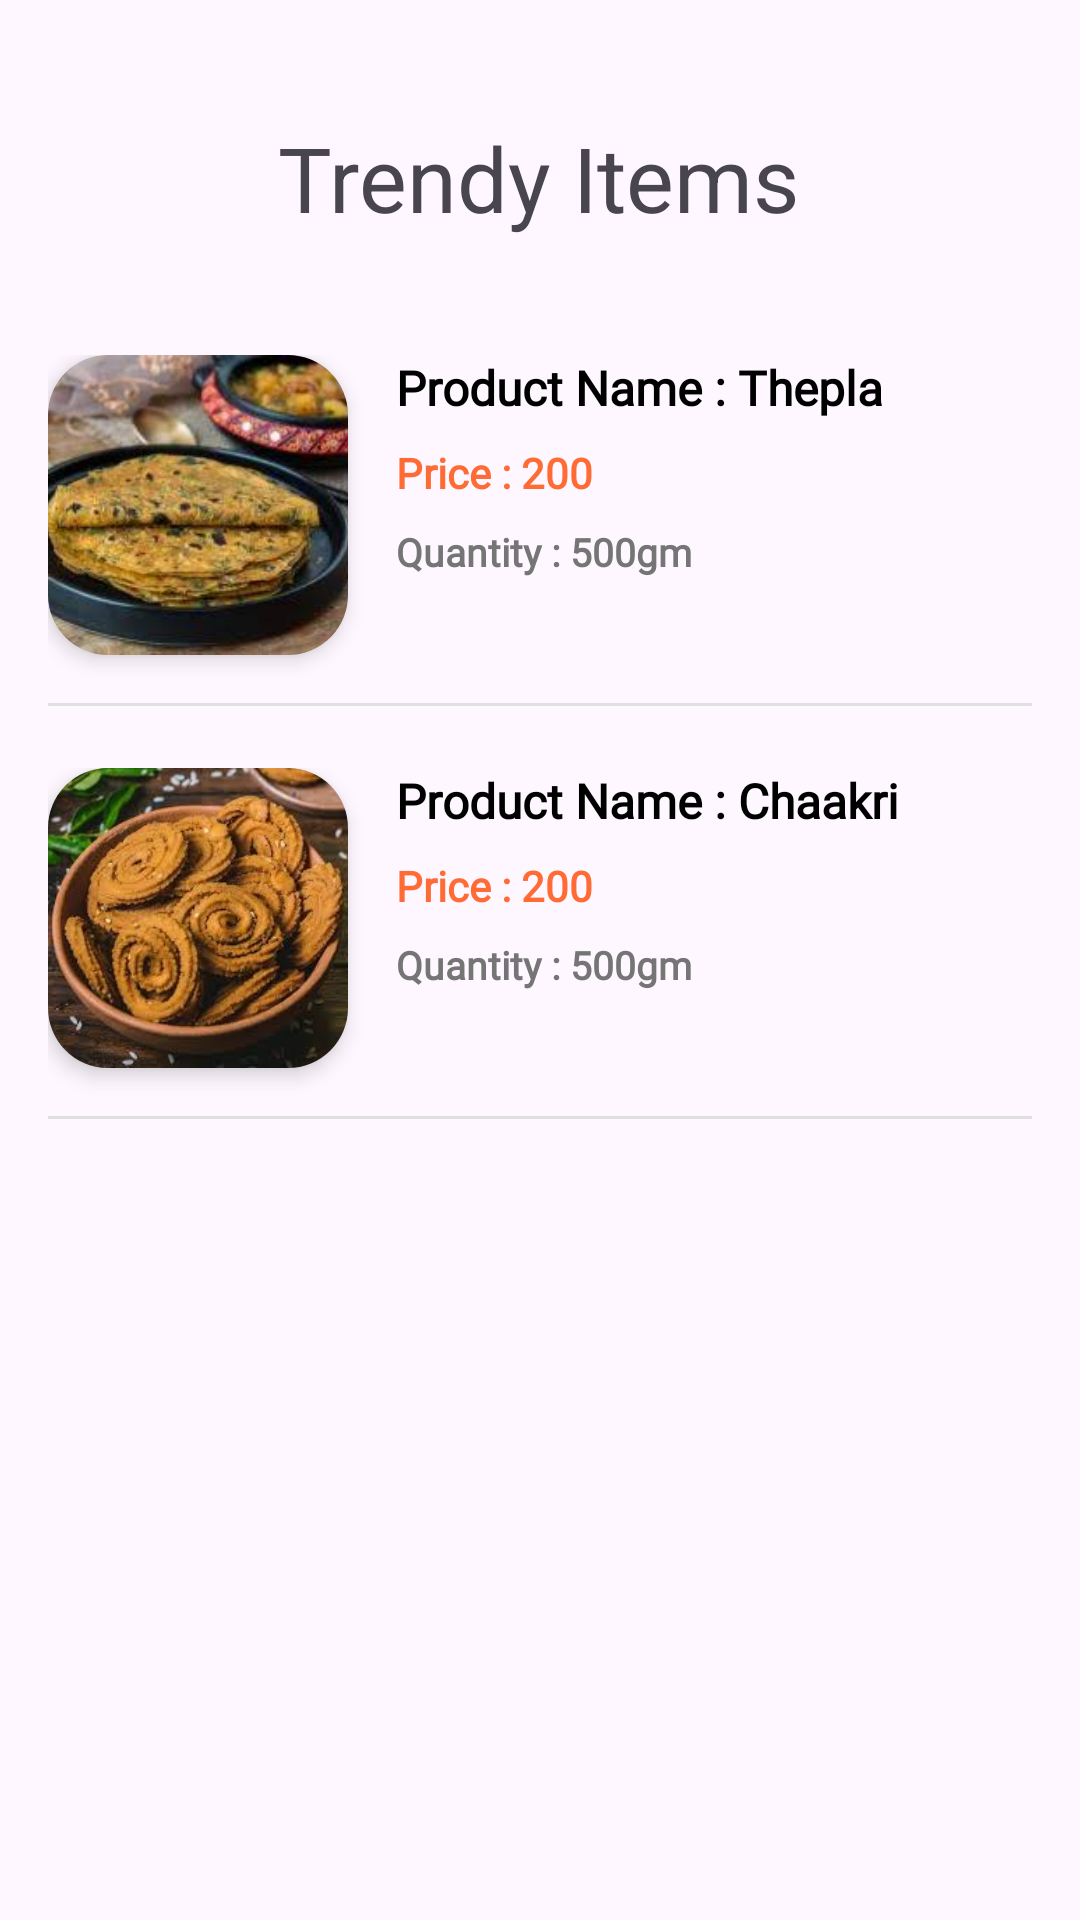

Icons on this 1080 × 1920 Android screen, each with its box as (x1, y1, x2, y2):
chakri: (48, 768, 348, 1068)
